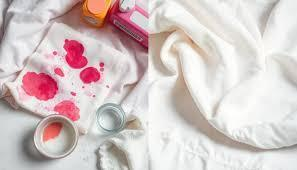kimchi: (52, 38, 91, 76), (26, 68, 67, 102), (50, 96, 86, 125), (74, 59, 107, 89)
